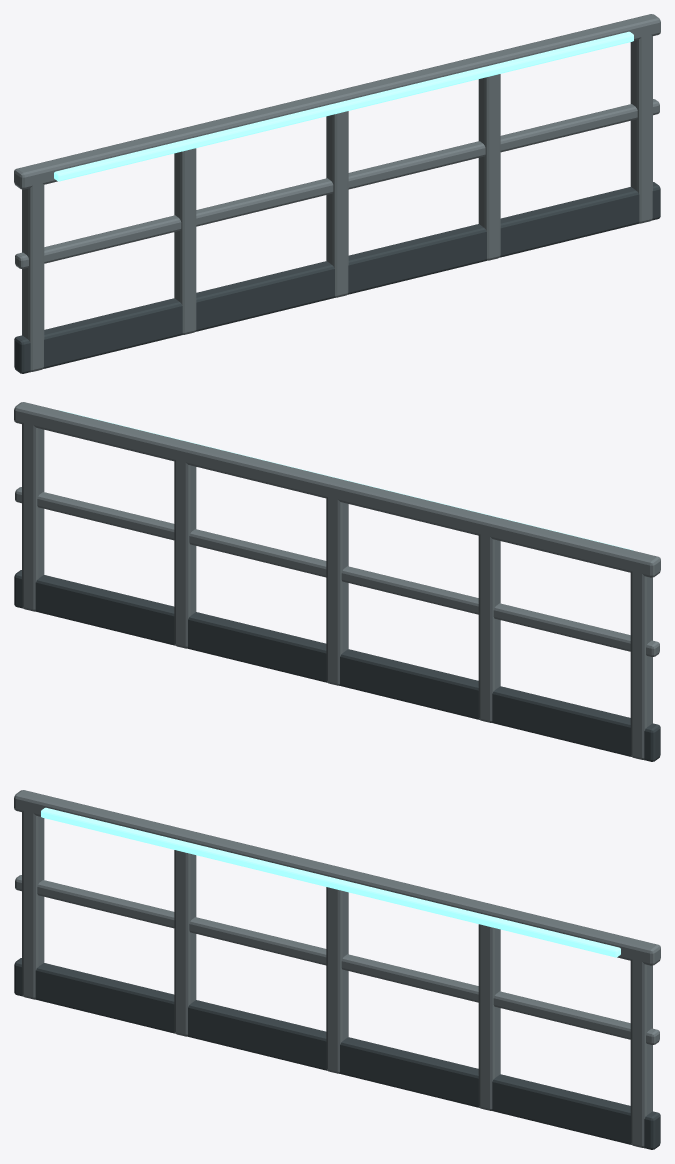
The model's file is SafetyRailing_A.fbx.
3 renders of one model, top to bottom at view 1: azimuth 30°, elevation 25°; view 2: azimuth 150°, elevation 25°; view 3: azimuth 330°, elevation 25°, orthographic.
Parts seen in each view (by area): view 1: Railing Kick Plate, Railing Mid Rail, Railing Top Rail, Railing Safety Light, Railing Post, Railing Post.004, Railing Post.001, Railing Post.002, Railing Post.003; view 2: Railing Kick Plate, Railing Top Rail, Railing Mid Rail, Railing Post, Railing Post.001, Railing Post.004, Railing Post.002, Railing Post.003, Railing Safety Light; view 3: Railing Kick Plate, Railing Mid Rail, Railing Top Rail, Railing Safety Light, Railing Post, Railing Post.004, Railing Post.003, Railing Post.002, Railing Post.001.
Boxes of the visible parts, <box> form: Railing Kick Plate: <box>14,182,660,373</box>; Railing Mid Rail: <box>15,99,659,268</box>; Railing Top Rail: <box>14,14,660,189</box>; Railing Safety Light: <box>54,31,633,181</box>; Railing Post: <box>22,164,44,371</box>; Railing Post.004: <box>630,16,652,223</box>; Railing Post.001: <box>174,127,196,334</box>; Railing Post.002: <box>326,90,348,297</box>; Railing Post.003: <box>478,53,500,260</box>; Railing Kick Plate: <box>14,570,660,761</box>; Railing Top Rail: <box>14,402,660,577</box>; Railing Mid Rail: <box>15,487,659,656</box>; Railing Post: <box>630,552,652,759</box>; Railing Post.001: <box>478,515,500,722</box>; Railing Post.004: <box>22,404,44,611</box>; Railing Post.002: <box>326,478,348,685</box>; Railing Post.003: <box>174,441,196,648</box>; Railing Safety Light: <box>59,410,633,550</box>; Railing Kick Plate: <box>14,958,660,1149</box>; Railing Mid Rail: <box>15,875,659,1044</box>; Railing Top Rail: <box>14,790,660,965</box>; Railing Safety Light: <box>41,807,620,957</box>; Railing Post: <box>22,792,44,999</box>; Railing Post.004: <box>630,940,652,1147</box>; Railing Post.003: <box>478,903,500,1110</box>; Railing Post.002: <box>326,866,348,1073</box>; Railing Post.001: <box>174,829,196,1036</box>.
Bounding box in the file's own units: 4 × 1.2 × 0.1475.
